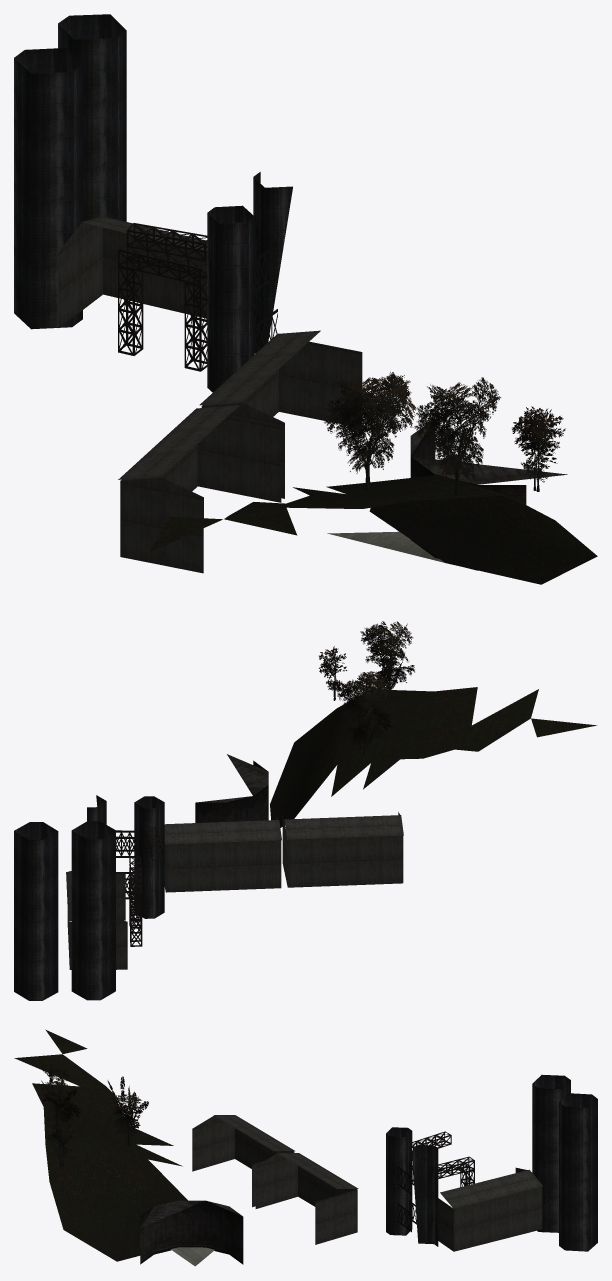
The model's file is cell_14_-9.gltf.
3 views of the same model, one above another, from view 1: azimuth 30°, elevation 25°; view 2: azimuth 150°, elevation 25°; view 3: azimuth 270°, elevation 25° (orthographic). The views are drawn at different scales.
Visible parts, largest first — view 1: cell_14_-9; view 2: cell_14_-9; view 3: cell_14_-9.
Boxes of the visible parts, x1,y1,x2,y2 form: cell_14_-9: (14, 14, 597, 584); cell_14_-9: (14, 621, 597, 1000); cell_14_-9: (14, 1029, 597, 1266).
Bounding box in the file's own units: 127 × 69.27 × 226.
Materials: 10 (10 with a texture image).
